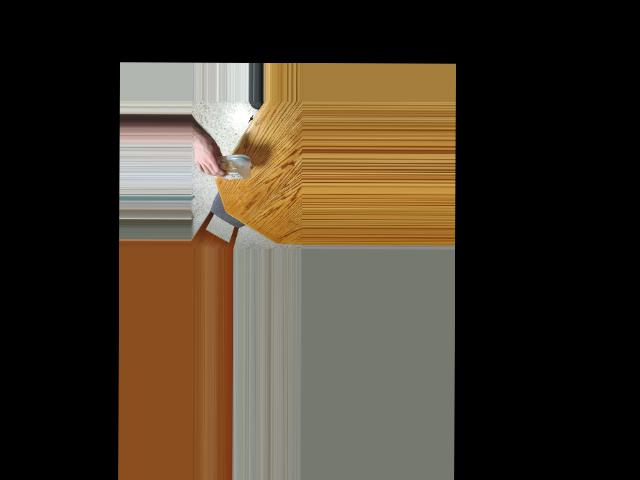cheese: (209, 145, 255, 186)
